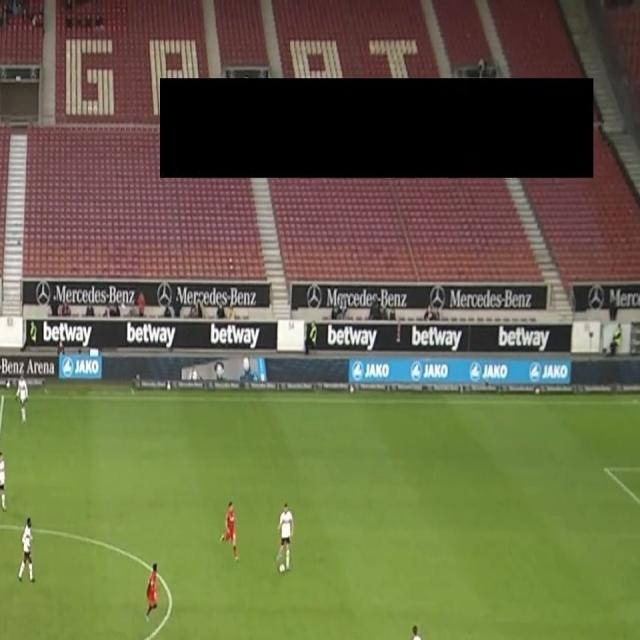ball: (279, 562, 286, 574)
